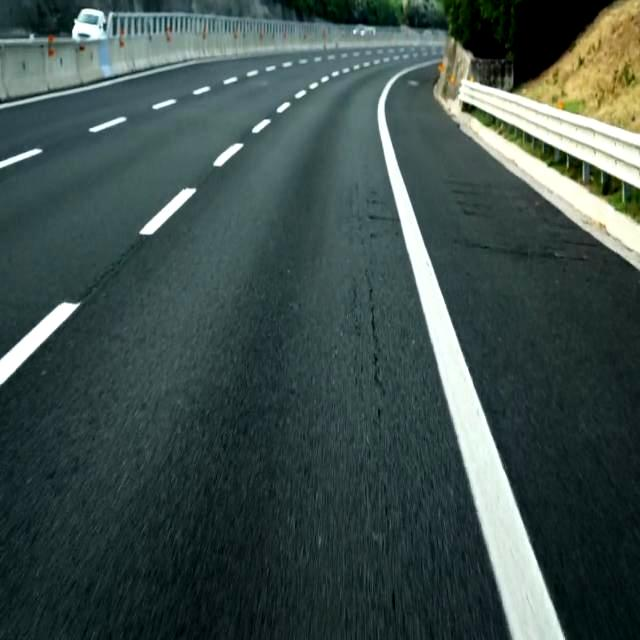lane: (378, 61, 564, 639), (0, 302, 79, 384), (139, 188, 196, 234), (214, 144, 243, 167), (89, 116, 126, 132), (251, 119, 271, 134)
road: (0, 54, 509, 639), (387, 67, 639, 639)
